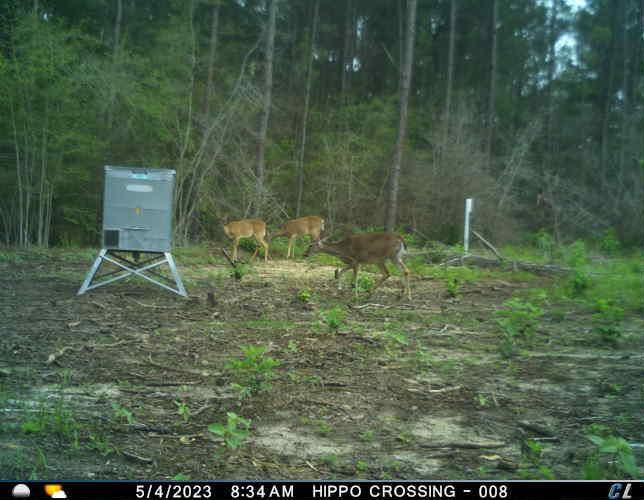Deer: (301, 228, 416, 305), (216, 206, 271, 263), (267, 211, 327, 260)
